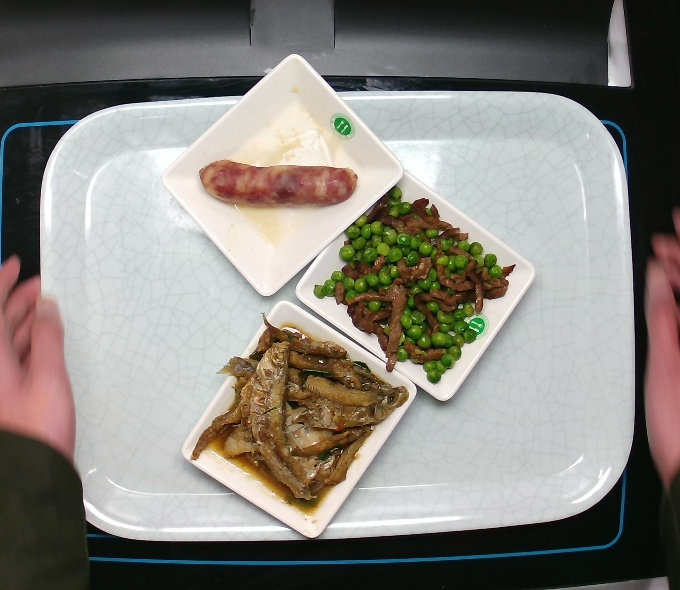wcq-CanDouNiuRou: (312, 185, 518, 385)
wcq-XiangChang: (196, 154, 361, 215)
wcq-XiaoXiYu: (188, 318, 409, 514)
